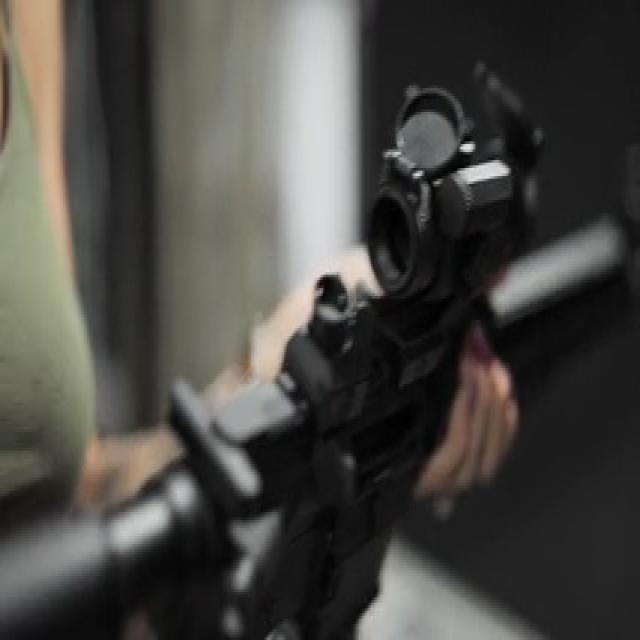Gun_Holder: (66, 31, 640, 640)
